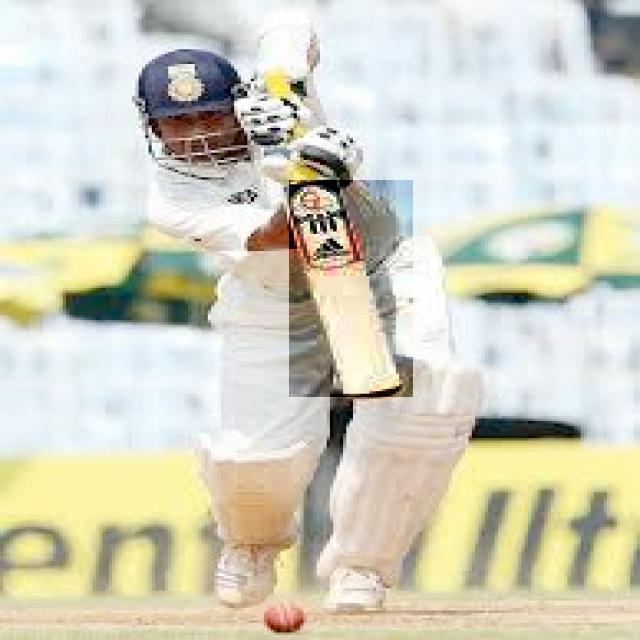bat: (290, 181, 414, 396)
toe: (336, 373, 403, 397)
